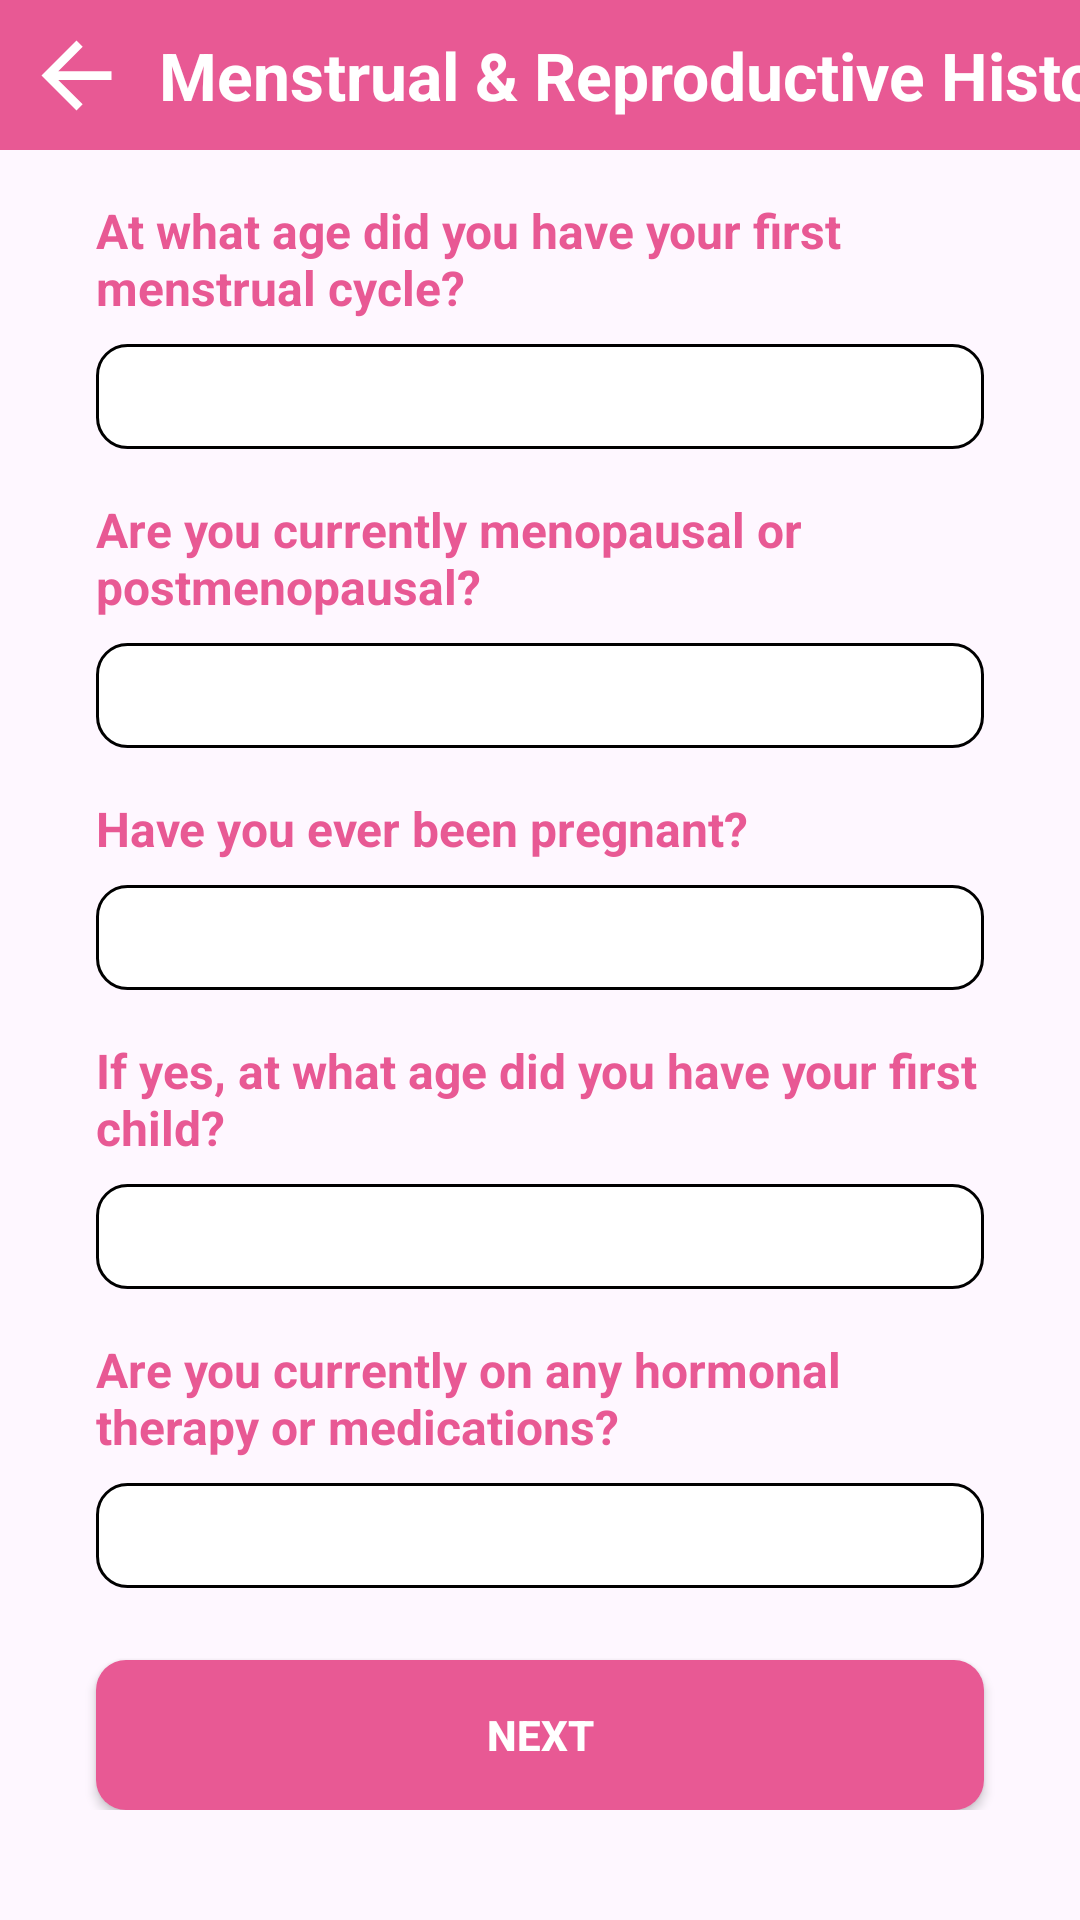

Named icons in this screenshot (1080 × 1920) and their bounding boxes, {"left": x1, "top": y1, "right": x2, "bottom": y2}:
arrow back: {"left": 41, "top": 40, "right": 112, "bottom": 111}
